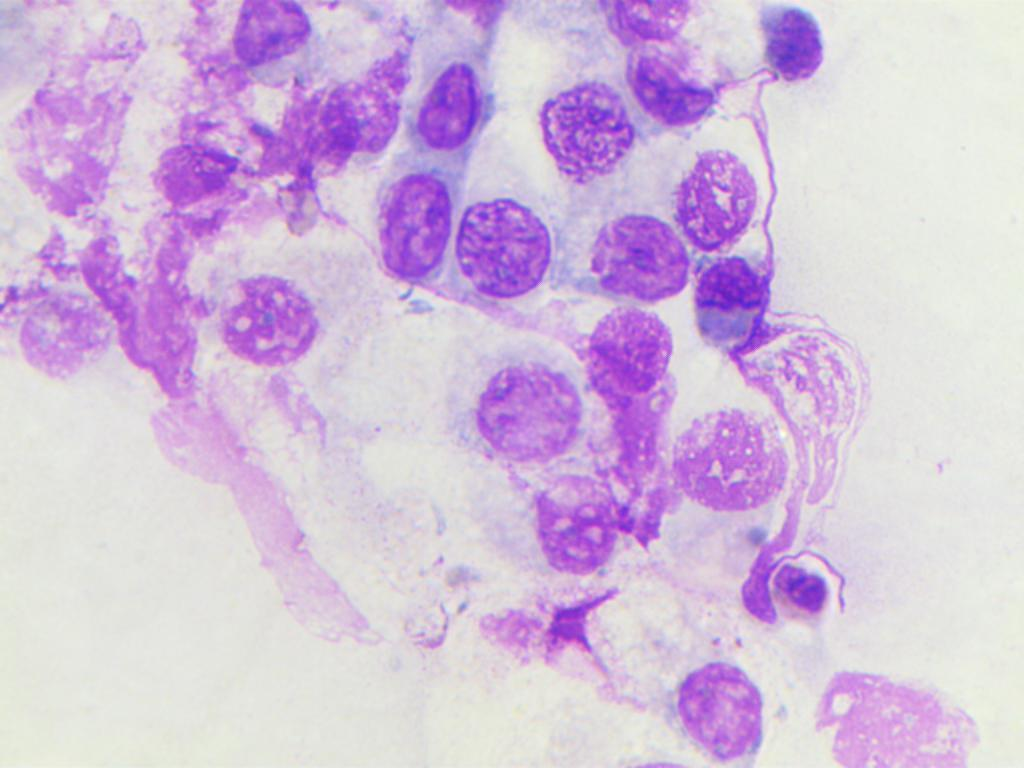epithelial: (434, 352, 590, 483), (637, 635, 781, 764), (455, 191, 563, 325), (529, 79, 635, 205), (568, 201, 684, 310), (672, 404, 789, 509), (212, 275, 321, 370), (370, 160, 453, 283), (685, 246, 782, 347), (534, 474, 623, 581), (411, 44, 490, 161), (678, 144, 760, 249), (631, 51, 723, 130), (587, 314, 676, 391), (755, 2, 827, 86)
neutrophil: (224, 1, 322, 68), (771, 562, 833, 616)
